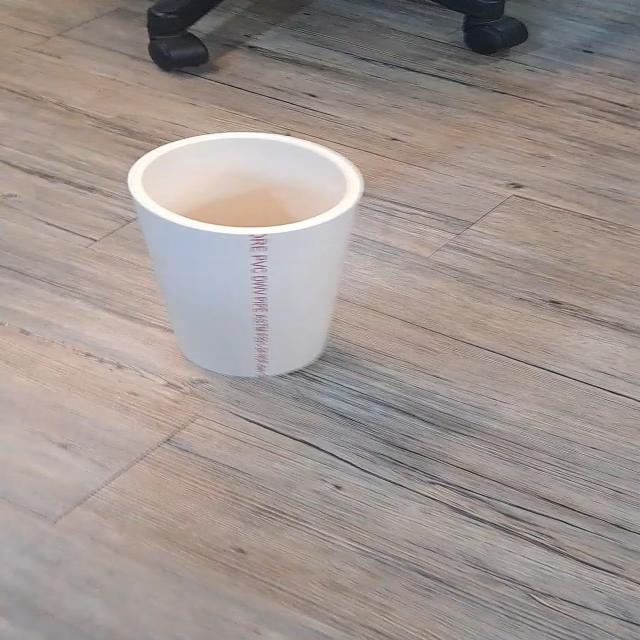CORAL: (122, 124, 388, 385)
